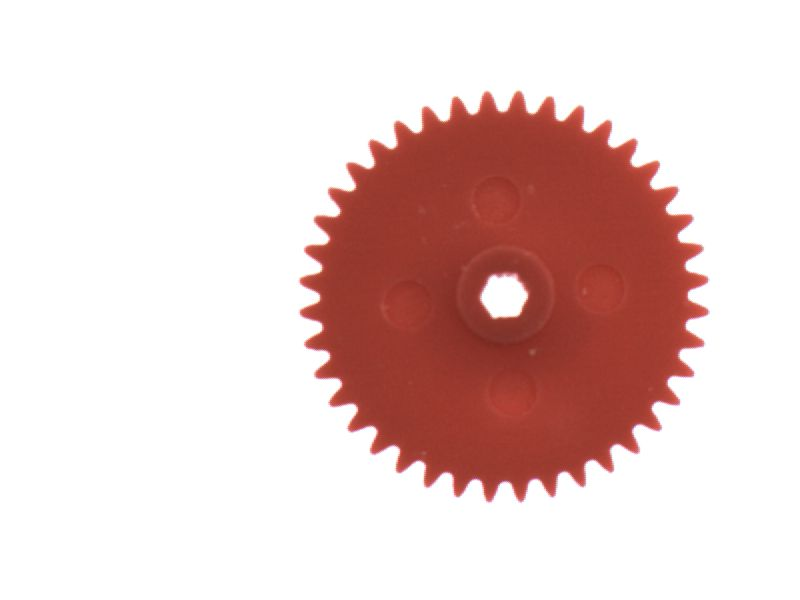good_product: (286, 73, 721, 511)
